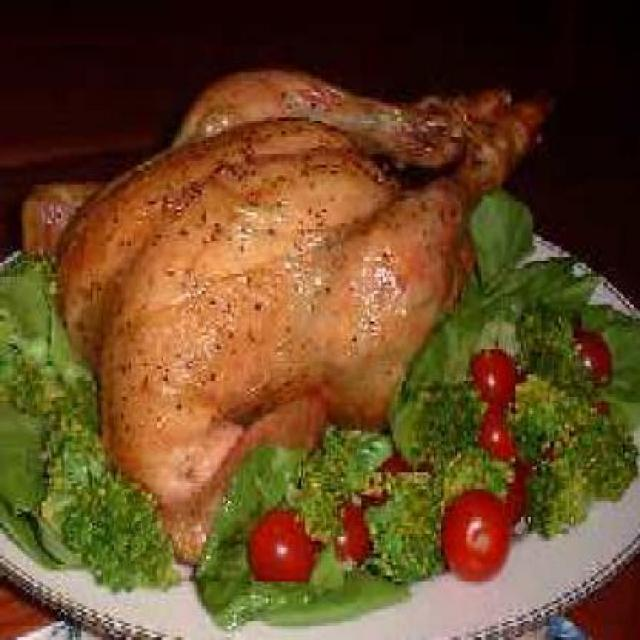Chicken roast: (51, 30, 492, 448)
Tomato: (256, 514, 318, 590), (448, 503, 501, 579)
